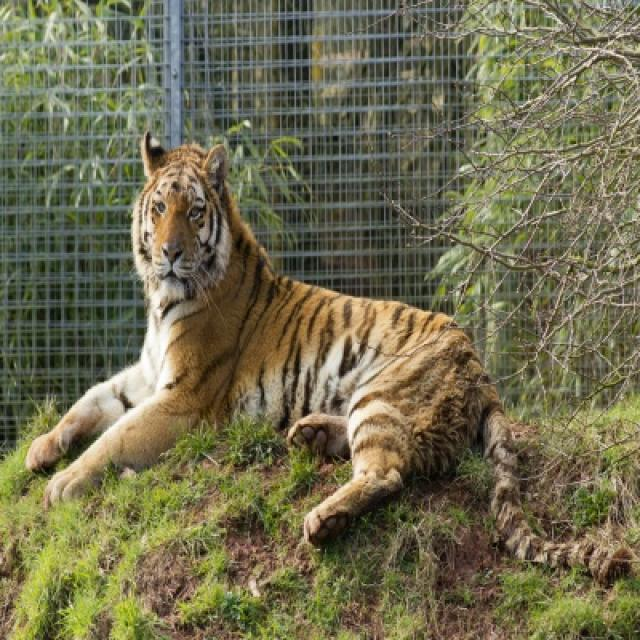Tiger: (32, 137, 638, 576)
